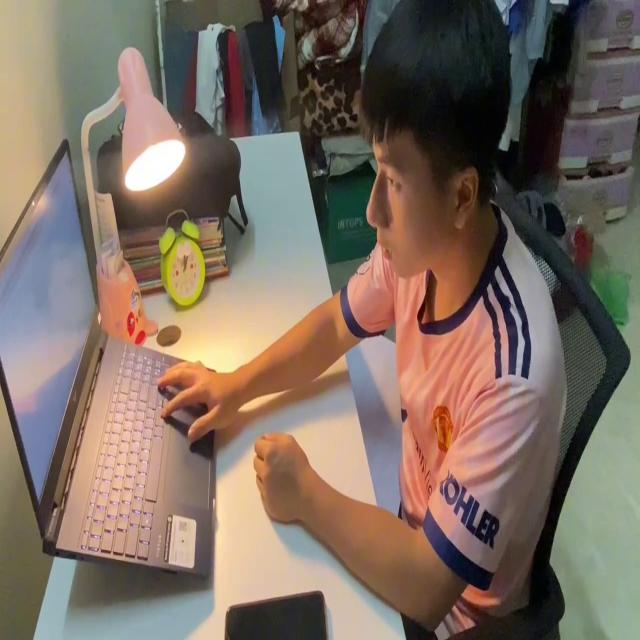book: (344, 322, 408, 522)
laptop: (1, 134, 218, 588)
phone: (221, 588, 329, 640)
student: (155, 0, 568, 640)
